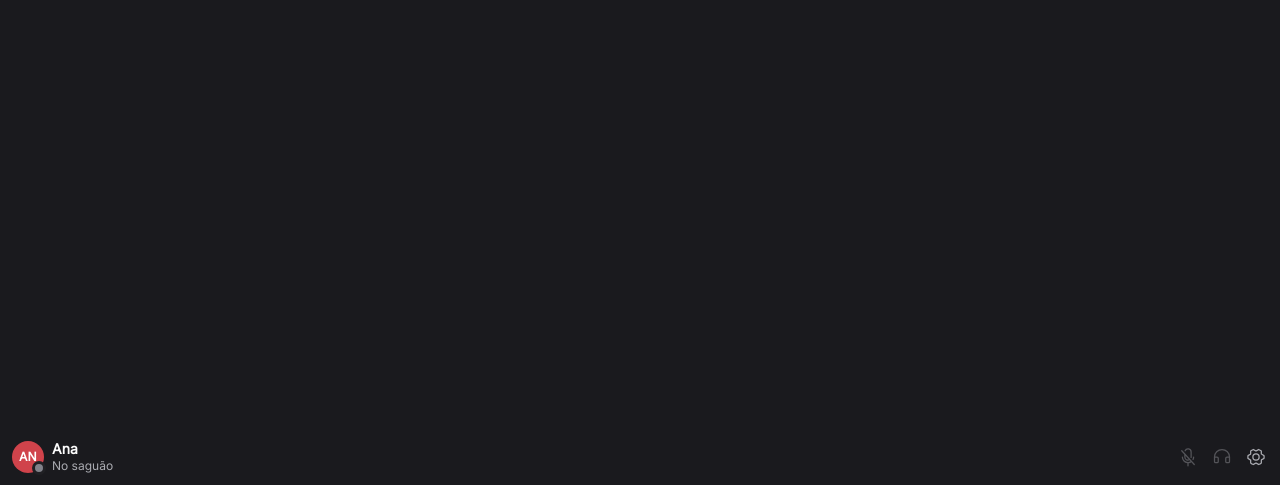
as preferências do painel da pessoa › sem a permissão do microfone, diz por que a lista está vazia
(page scrolled)
Click the button named "Preferências": click(1256, 457) [1240,441,1272,473]
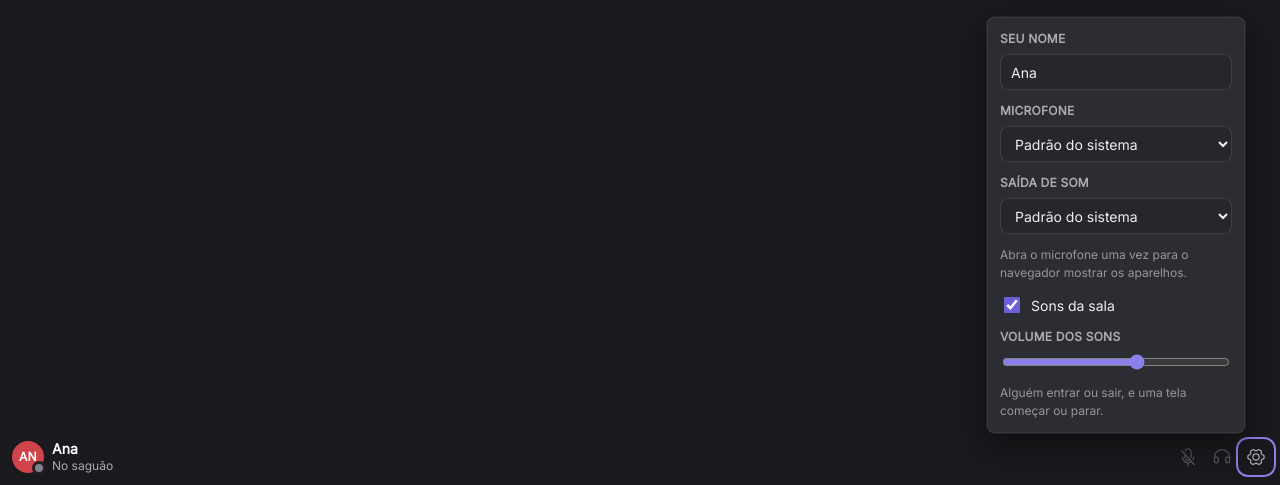
Expected: the text "Abra o microfone uma vez" is shown, [1000,247,1188,280]
